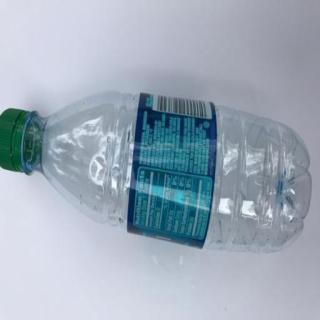Plastic-bottle: (1, 89, 316, 260)
